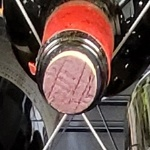bottle: (29, 39, 121, 127)
